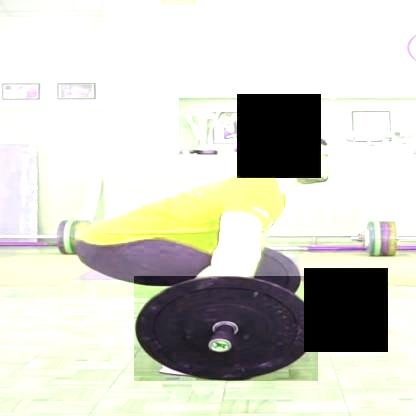barbell: (134, 276, 319, 381)
